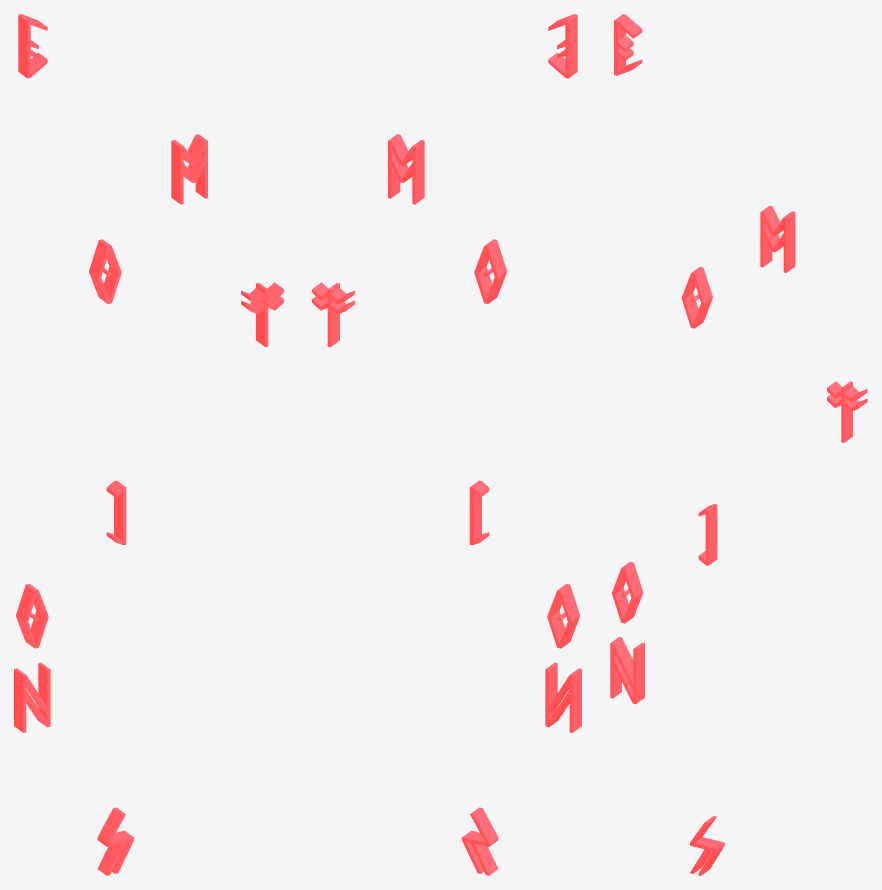
File: emotions.glb
3 views of the same model, side by side, from view 1: azimuth 30°, elevation 25°; view 2: azimuth 150°, elevation 25°; view 3: azimuth 330°, elevation 25° (orthographic). The views are drawn at different scales.
Parts seen in each view (by area): view 1: Texte.003; view 2: Texte.003; view 3: Texte.003.
Boxes of the visible parts, <box> form: Texte.003: <box>14,14,283,875</box>; Texte.003: <box>312,14,581,875</box>; Texte.003: <box>610,14,867,875</box>.
Size of the model in its own units: 1.69 by 5.41 by 0.1026.
